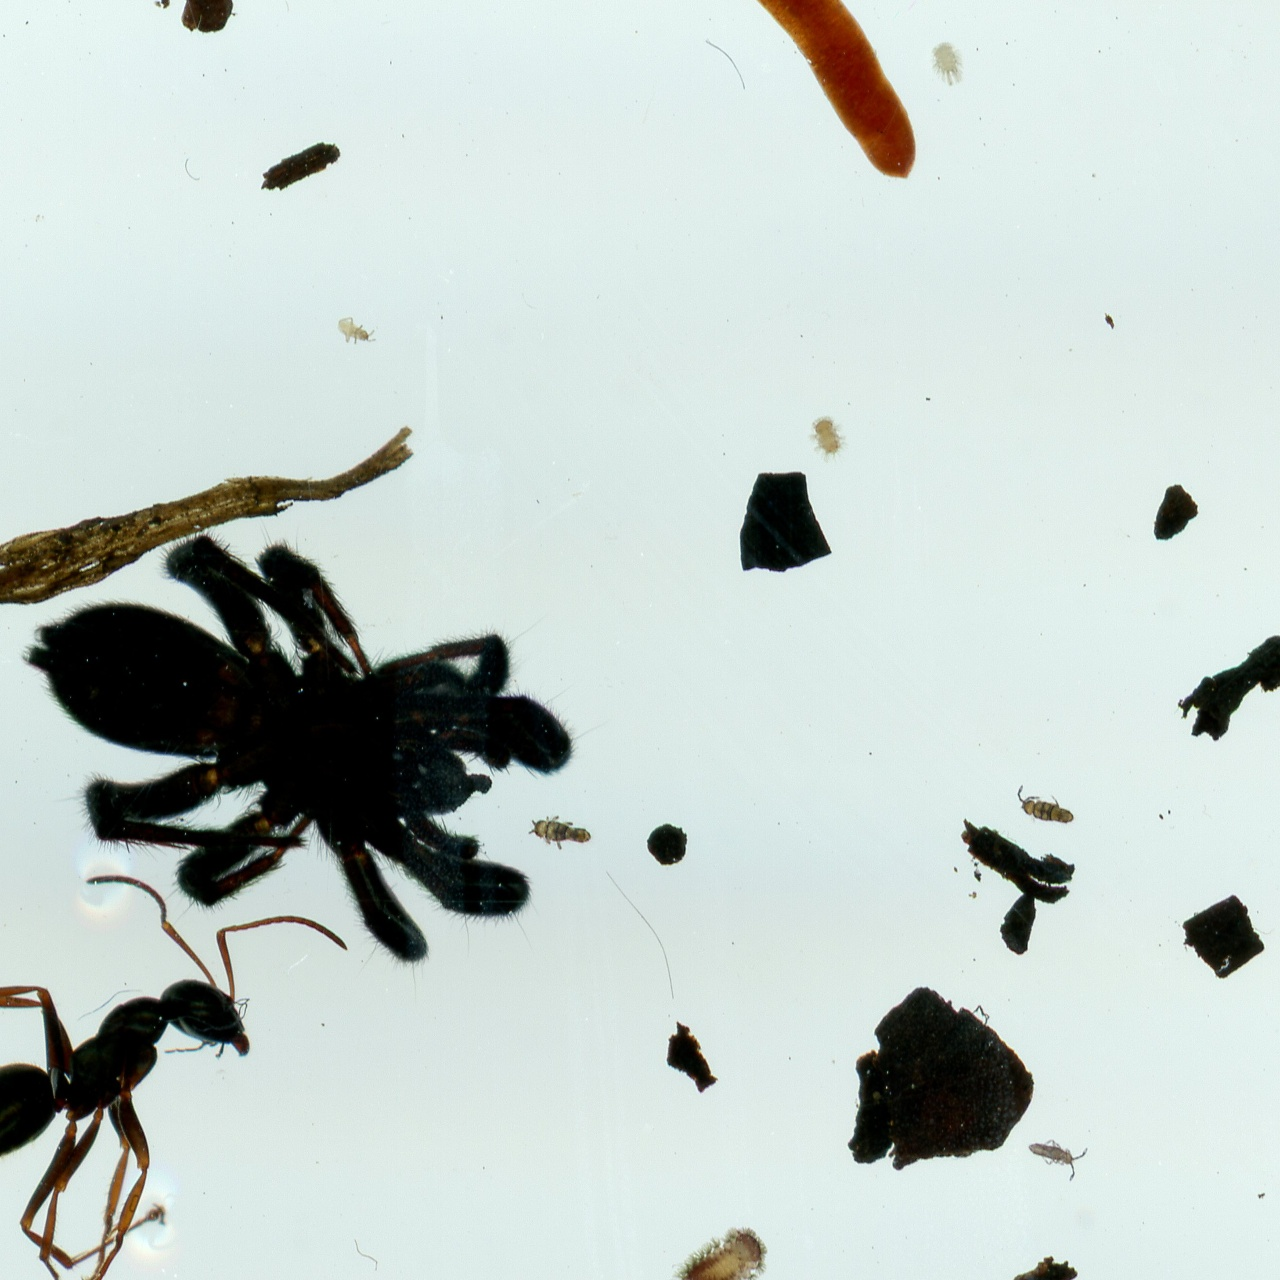arthropod: (17, 513, 620, 1010), (0, 870, 352, 1280), (643, 1206, 791, 1280), (1016, 1131, 1100, 1189), (1015, 781, 1077, 828), (802, 411, 852, 464), (527, 815, 595, 852), (928, 39, 969, 87), (336, 314, 377, 346)
